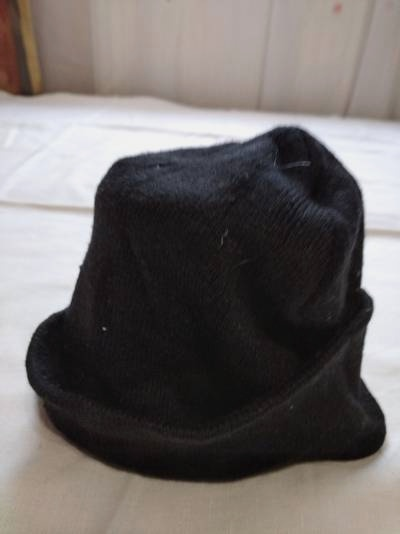Hat: (18, 109, 371, 491)
